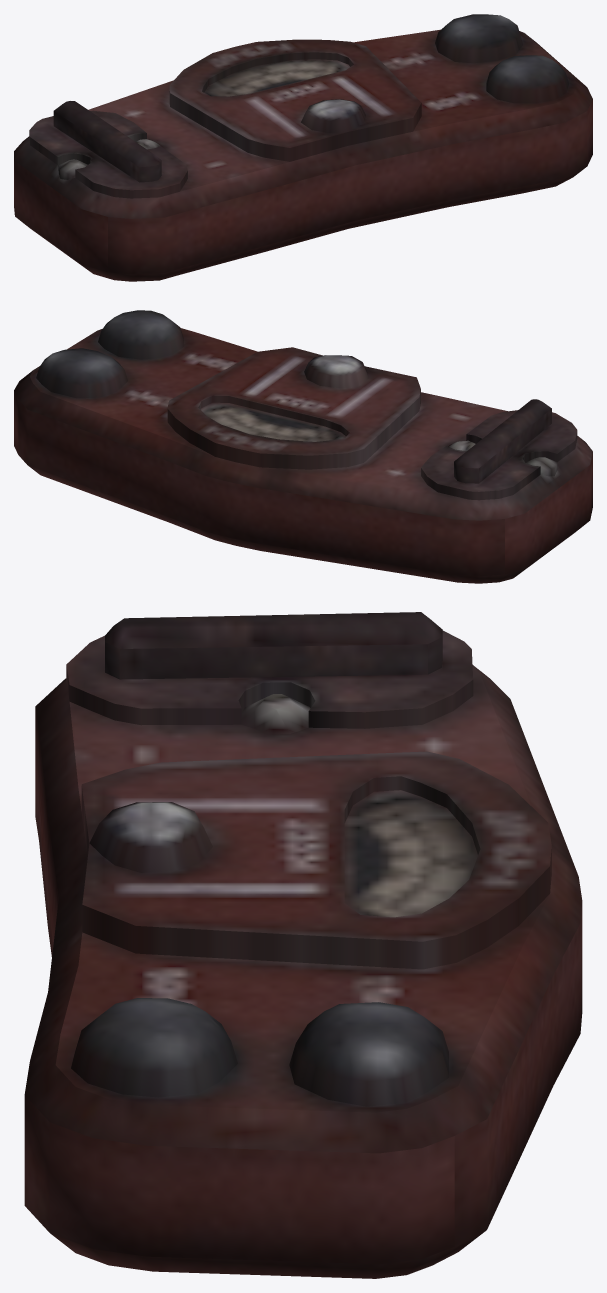
File: dosimeter_1.obj
3 views of the same model, one above another, from view 1: azimuth 30°, elevation 25°; view 2: azimuth 150°, elevation 25°; view 3: azimuth 270°, elevation 25° (orthographic). The views are drawn at different scales.
Parts seen in each view (by area): view 1: dosimeter_1; view 2: dosimeter_1; view 3: dosimeter_1.
Part boxes in pixels (x1,y1,x2,y2): dosimeter_1: (14,14,592,281); dosimeter_1: (14,310,592,583); dosimeter_1: (24,612,582,1278).
Bounding box in the file's own units: 0.3097 × 0.0656 × 0.1459.
